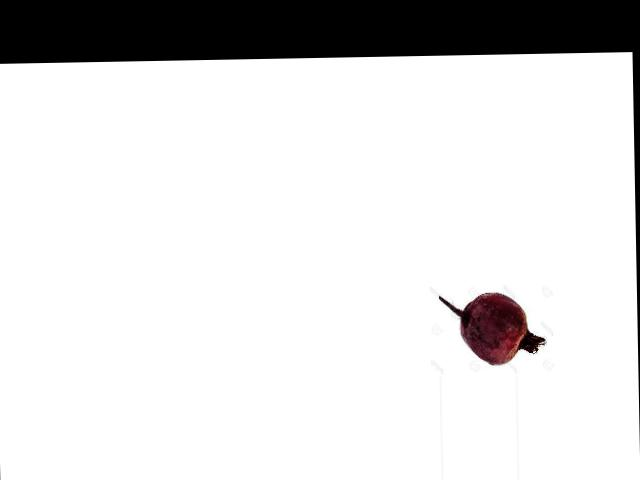beet: (439, 290, 546, 365)
